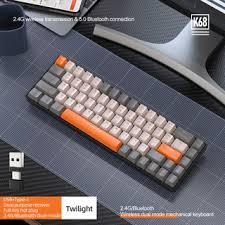keyboard: (25, 53, 207, 192)
